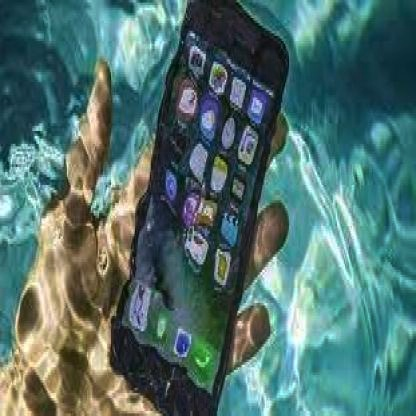cellphone: (114, 2, 285, 416)
